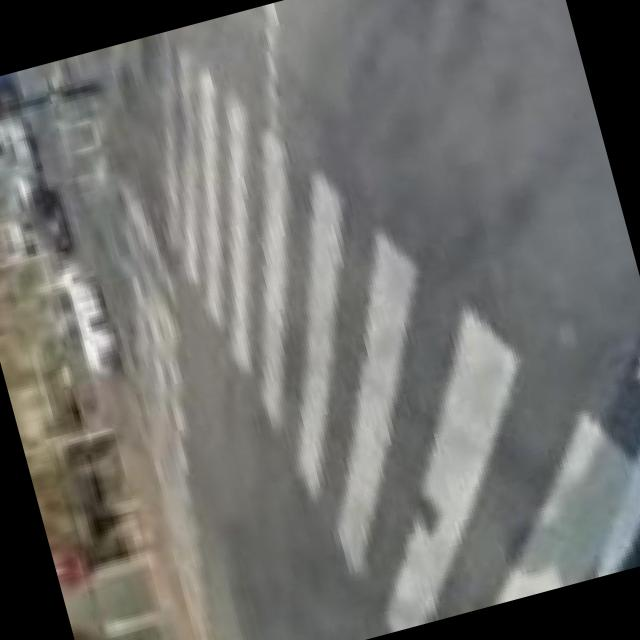zebra: (142, 44, 639, 635)
